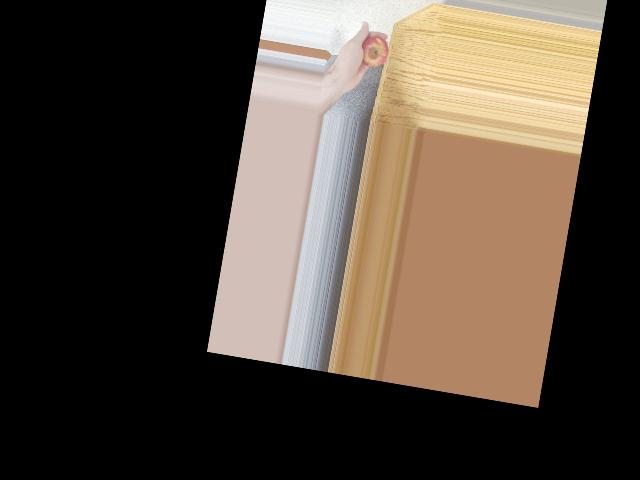apple: (356, 32, 391, 72)
